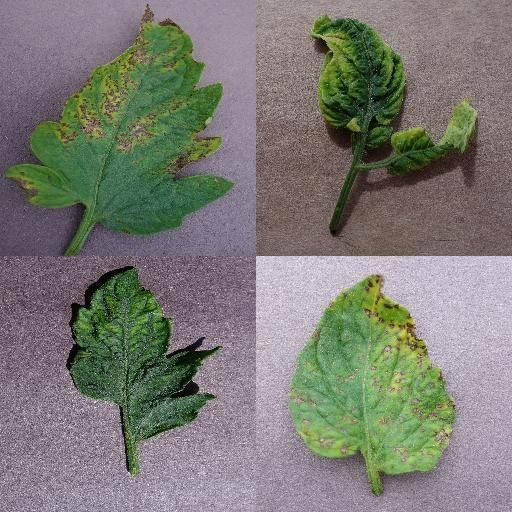Mosaic Virus: (67, 268, 225, 440)
Septoria: (9, 4, 235, 234), (288, 274, 456, 476)
Yellow Leaf Curl Virus: (311, 14, 407, 148), (387, 101, 479, 177)
